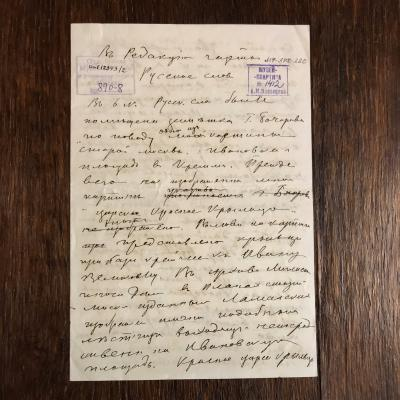document: (69, 24, 318, 384)
